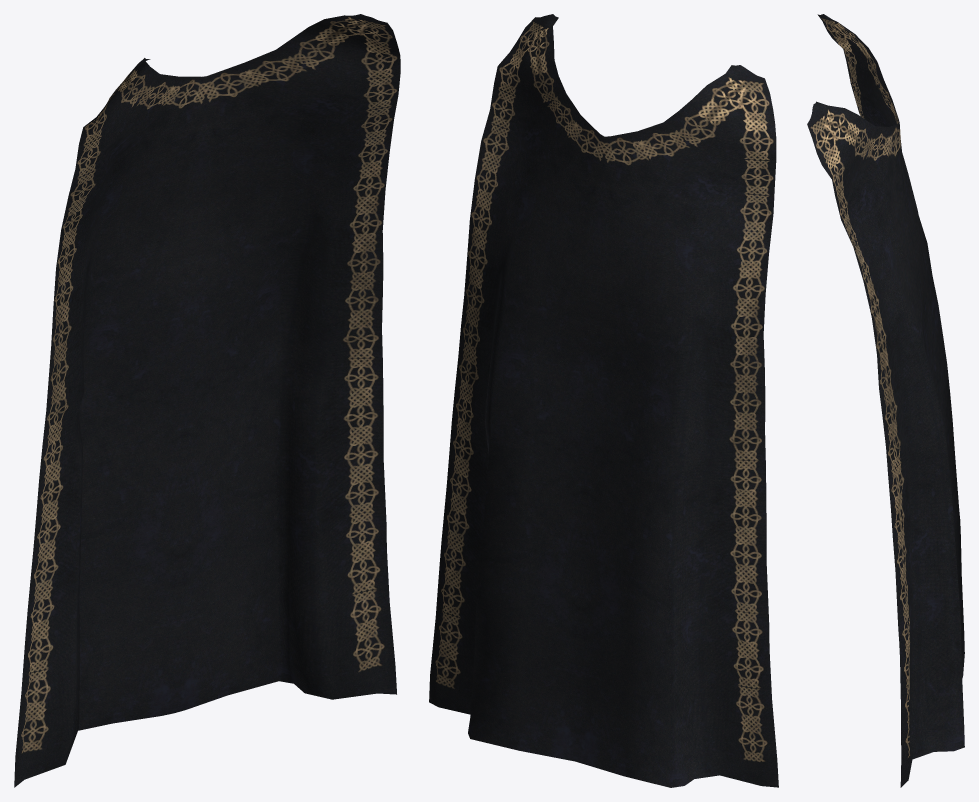
The model's file is clo_gondor_nobke_pauldrons.fbx.
3 views of the same model, side by side, from view 1: azimuth 30°, elevation 25°; view 2: azimuth 150°, elevation 25°; view 3: azimuth 270°, elevation 25° (orthographic). The views are drawn at different scales.
Visible parts, largest first — view 1: clo_gondor_nobke_pauldrons; view 2: clo_gondor_nobke_pauldrons; view 3: clo_gondor_nobke_pauldrons.
Part boxes in pixels (x1,y1,x2,y2): clo_gondor_nobke_pauldrons: (14,14,400,787); clo_gondor_nobke_pauldrons: (429,14,778,787); clo_gondor_nobke_pauldrons: (807,14,964,787).
Bounding box in the file's own units: 0.6985 × 0.2842 × 1.29.
1 material, 1 textured.
